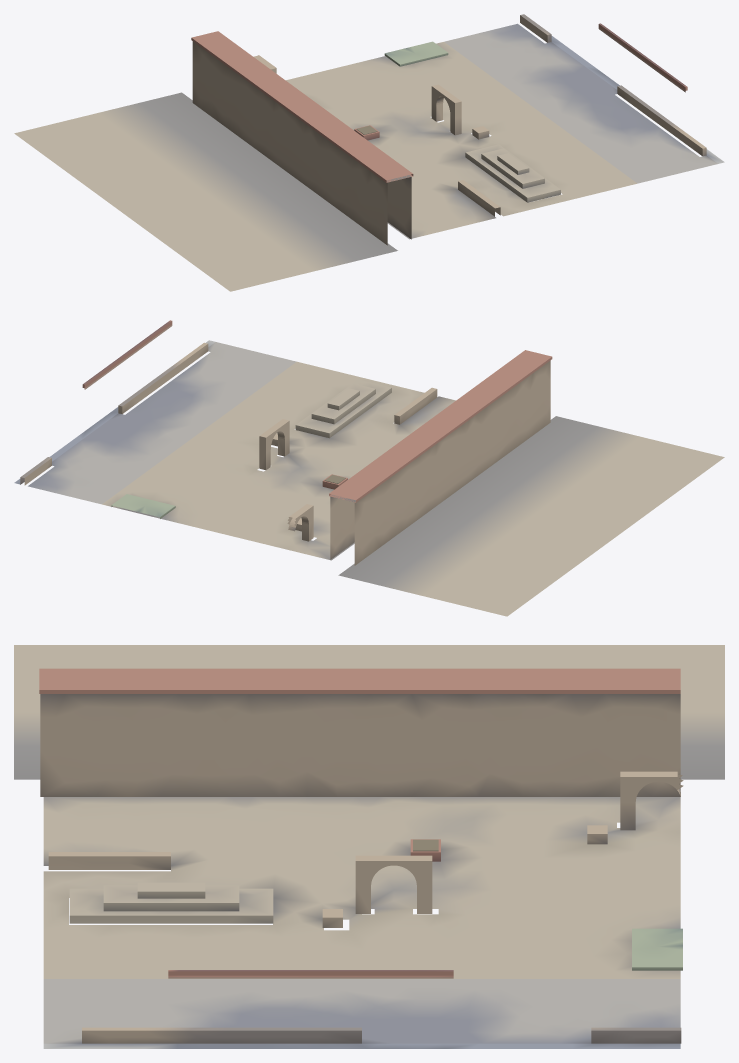
The picture shows the model from 3 angles, top to bottom: view 1: azimuth 30°, elevation 25°; view 2: azimuth 150°, elevation 25°; view 3: azimuth 270°, elevation 25°; orthographic projection. The views are drawn at different scales.
Visible parts, largest first — view 1: t; view 2: t; view 3: t.
Boxes of the visible parts, <box> form: t: <box>14,14,724,291</box>; t: <box>14,320,724,616</box>; t: <box>14,645,724,1048</box>.
Bounding box in the file's own units: 75.1 × 9.35 × 55.81.
